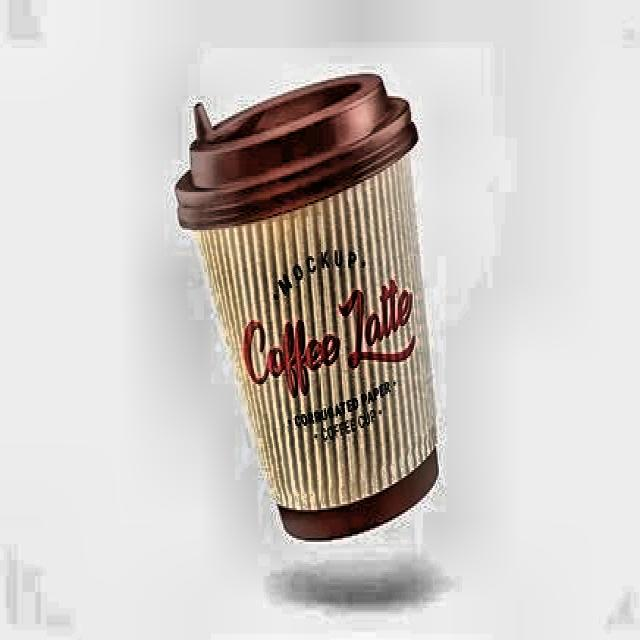Cup: (176, 109, 450, 535)
